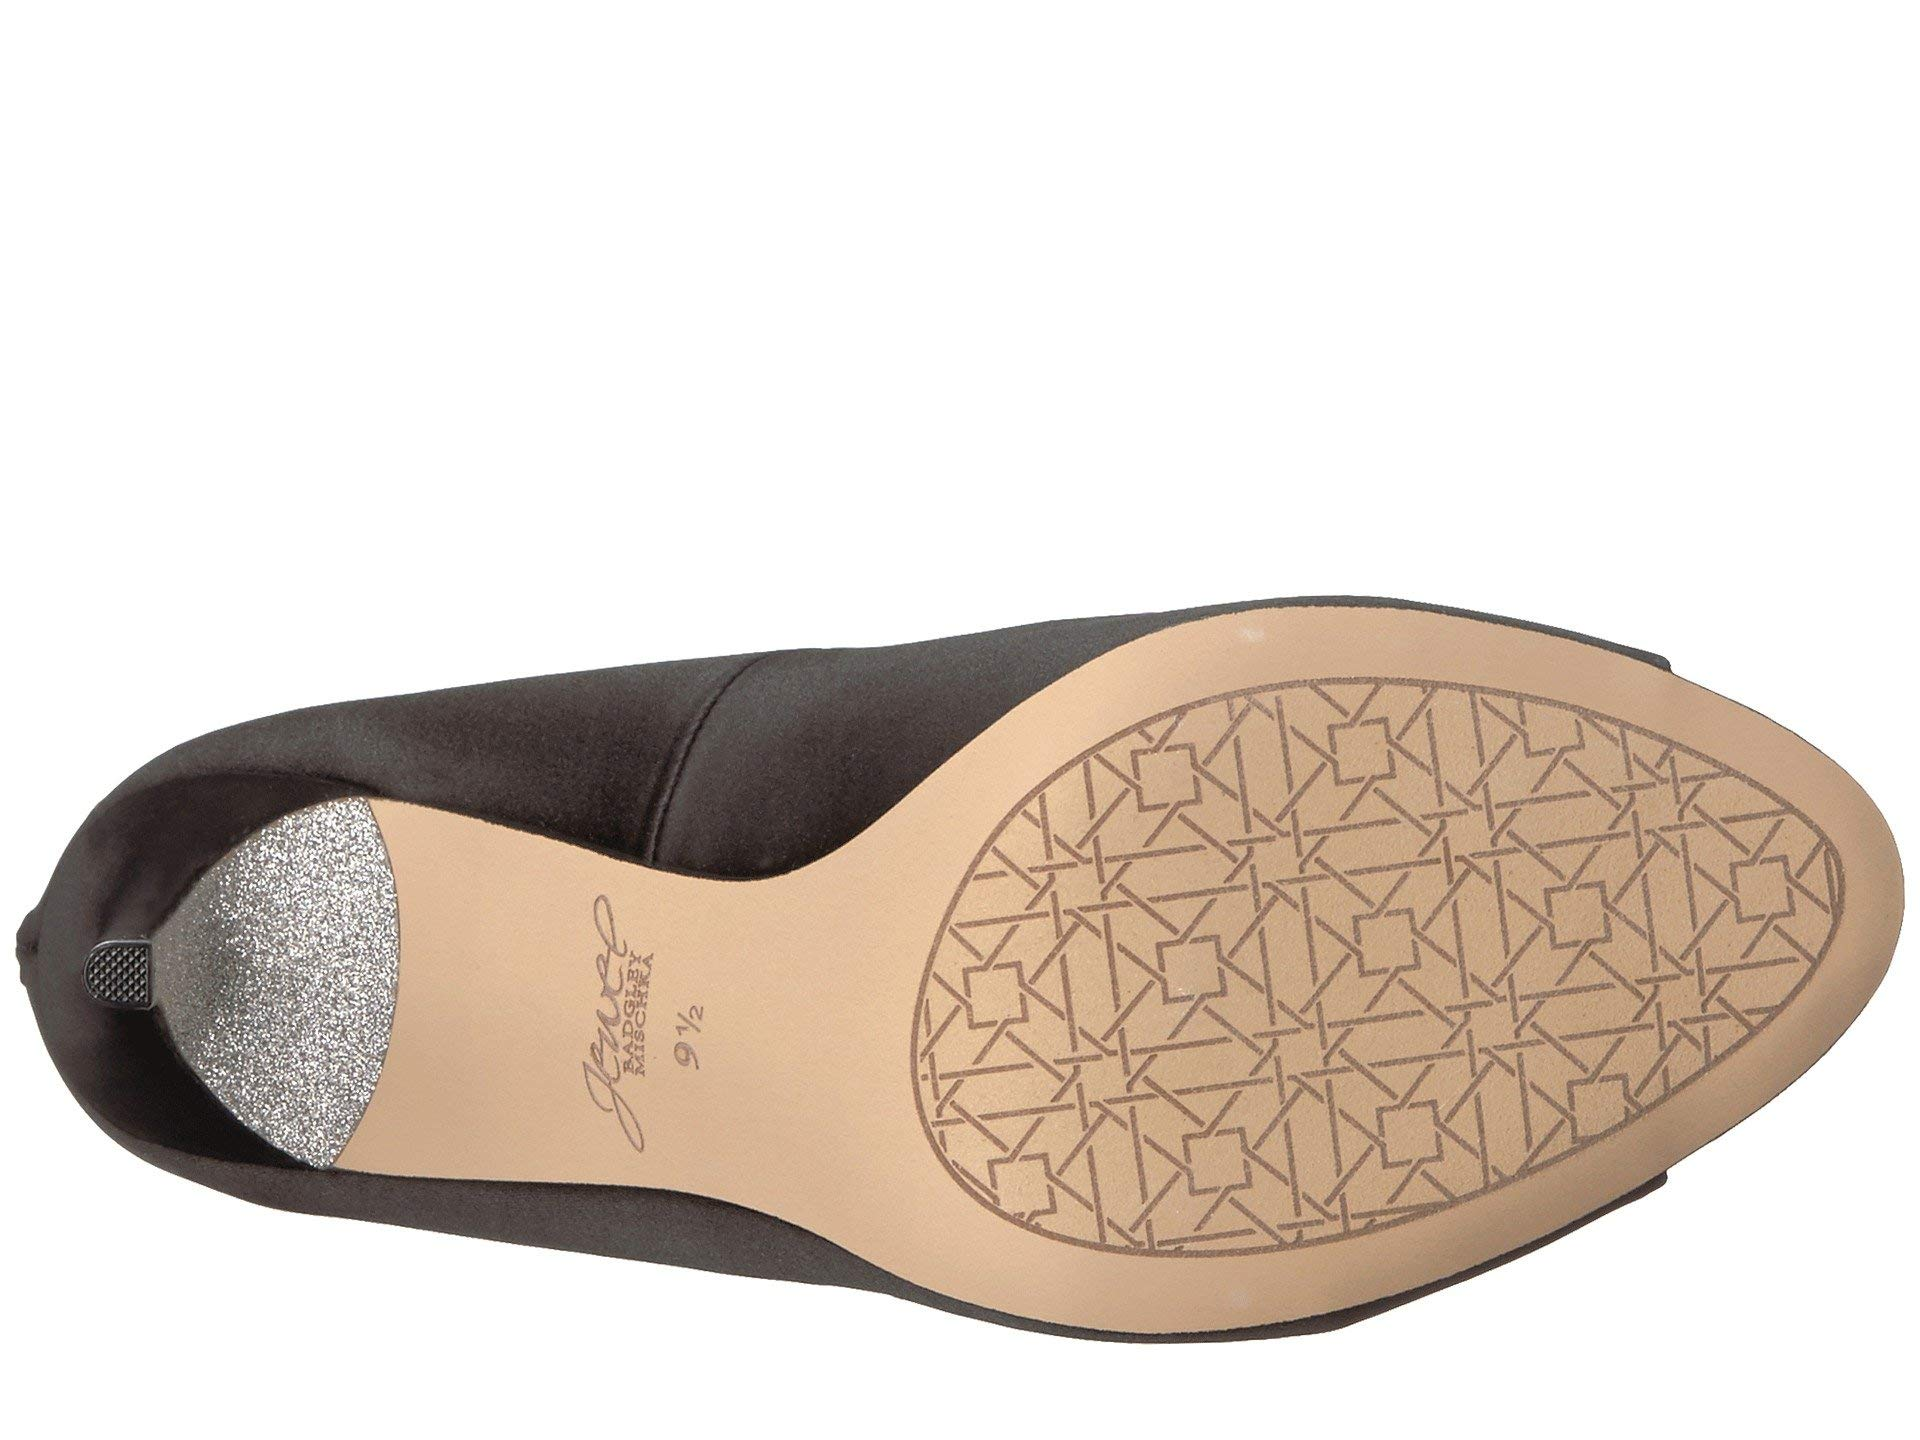polygon: (1033, 839, 1379, 1236)
quad: (1033, 839, 1379, 1236)
star: (1033, 839, 1379, 1236)
triangle: (1033, 839, 1379, 1236)
